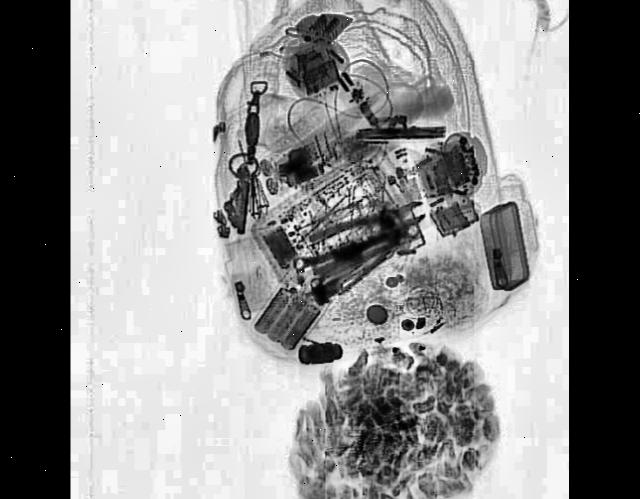Pliers: (307, 183, 430, 284)
Wrench: (292, 218, 419, 271)
